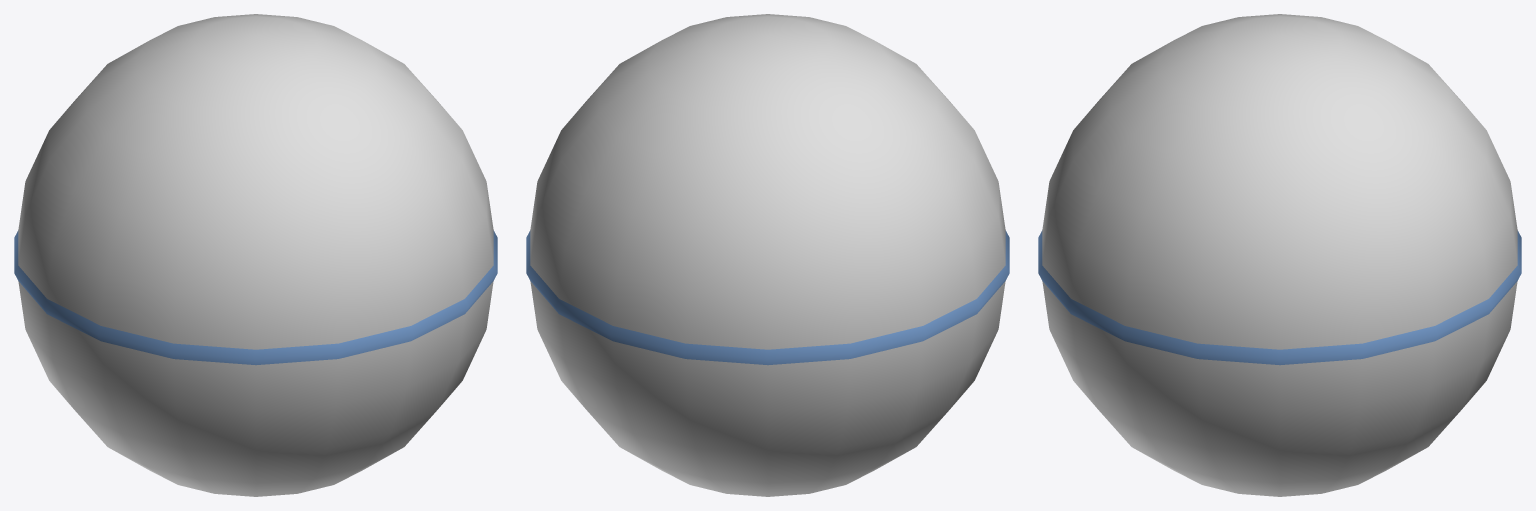
File: pelota.glb
3 renders of one model, left to right at view 1: azimuth 30°, elevation 25°; view 2: azimuth 150°, elevation 25°; view 3: azimuth 270°, elevation 25°, orthographic.
Parts seen in each view (by area): view 1: esfera, banda; view 2: esfera, banda; view 3: esfera, banda.
Boxes of the visible parts, <box> form: esfera: <box>18,14,493,496</box>; banda: <box>14,230,497,365</box>; esfera: <box>530,14,1005,496</box>; banda: <box>526,230,1009,365</box>; esfera: <box>1042,14,1517,496</box>; banda: <box>1038,230,1521,365</box>.
Bounding box in the file's own units: 0.85 × 0.84 × 0.8371.
